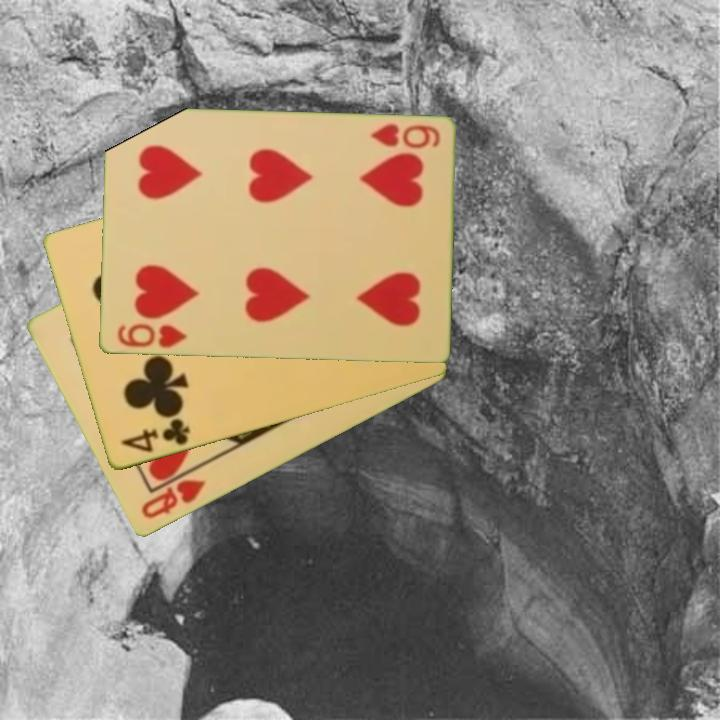4c: (117, 415, 193, 456)
6h: (113, 320, 190, 351), (366, 121, 443, 152)
Qh: (137, 476, 209, 523)
